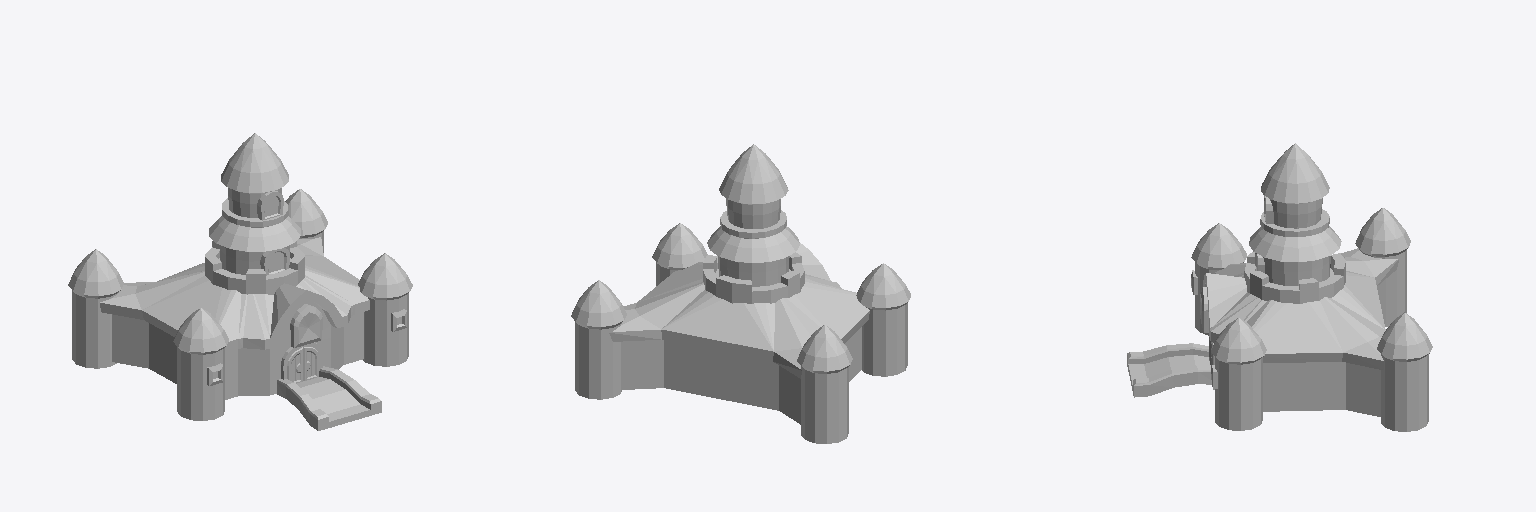
Rendered from castelo.obj.
The picture shows the model from 3 angles: view 1: azimuth 30°, elevation 25°; view 2: azimuth 150°, elevation 25°; view 3: azimuth 270°, elevation 25°; orthographic projection.
Visible parts, largest first — view 1: polygon11.021_polygon11.019_polygon11.021_polygon11.001, polygon11.021_polygon11.001, polygon11.021_polygon11.001_polygon11.021_polygon11.001, polygon11.021_polygon11.018_polygon11.021_polygon11.001, polygon11.021_polygon11.007_polygon11.021_polygon11.001, polygon11.021_polygon11.006_polygon11.021_polygon11.001, polygon11.021_polygon11.010_polygon11.021_polygon11.001, polygon11.021_polygon11.011_polygon11.021_polygon11.001, polygon11.021_polygon11.003_polygon11.021_polygon11.001, polygon11.021_polygon11.020_polygon11.021_polygon11.001, polygon11.021_polygon11.000_polygon11.021_polygon11.001, polygon11.021_polygon11.012_polygon11.021_polygon11.001 (+1 smaller); view 2: polygon11.021_polygon11.019_polygon11.021_polygon11.001, polygon11.021_polygon11.001_polygon11.021_polygon11.001, polygon11.021_polygon11.003_polygon11.021_polygon11.001, polygon11.021_polygon11.001, polygon11.021_polygon11.006_polygon11.021_polygon11.001, polygon11.021_polygon11.010_polygon11.021_polygon11.001, polygon11.021_polygon11.011_polygon11.021_polygon11.001, polygon11.021_polygon11.018_polygon11.021_polygon11.001, polygon11.021_polygon11.012_polygon11.021_polygon11.001; view 3: polygon11.021_polygon11.019_polygon11.021_polygon11.001, polygon11.021_polygon11.003_polygon11.021_polygon11.001, polygon11.021_polygon11.018_polygon11.021_polygon11.001, polygon11.021_polygon11.006_polygon11.021_polygon11.001, polygon11.021_polygon11.010_polygon11.021_polygon11.001, polygon11.021_polygon11.007_polygon11.021_polygon11.001, polygon11.021_polygon11.001_polygon11.021_polygon11.001, polygon11.021_polygon11.011_polygon11.021_polygon11.001, polygon11.021_polygon11.001, polygon11.021_polygon11.012_polygon11.021_polygon11.001.
Boxes of the visible parts, box(x1,y1,x2,y2) form: polygon11.021_polygon11.019_polygon11.021_polygon11.001: box(100, 237, 369, 399); polygon11.021_polygon11.001: box(173, 308, 228, 420); polygon11.021_polygon11.001_polygon11.021_polygon11.001: box(68, 249, 123, 368); polygon11.021_polygon11.018_polygon11.021_polygon11.001: box(358, 253, 412, 366); polygon11.021_polygon11.007_polygon11.021_polygon11.001: box(277, 366, 381, 430); polygon11.021_polygon11.006_polygon11.021_polygon11.001: box(221, 133, 288, 217); polygon11.021_polygon11.010_polygon11.021_polygon11.001: box(209, 216, 300, 274); polygon11.021_polygon11.011_polygon11.021_polygon11.001: box(205, 241, 304, 294); polygon11.021_polygon11.003_polygon11.021_polygon11.001: box(285, 189, 327, 252); polygon11.021_polygon11.020_polygon11.021_polygon11.001: box(257, 191, 289, 275); polygon11.021_polygon11.000_polygon11.021_polygon11.001: box(290, 304, 322, 347); polygon11.021_polygon11.012_polygon11.021_polygon11.001: box(222, 198, 288, 227); polygon11.021_polygon11.019_polygon11.021_polygon11.001: box(609, 243, 869, 424); polygon11.021_polygon11.001_polygon11.021_polygon11.001: box(797, 325, 852, 443); polygon11.021_polygon11.003_polygon11.021_polygon11.001: box(571, 280, 626, 399); polygon11.021_polygon11.001: box(856, 263, 910, 376); polygon11.021_polygon11.006_polygon11.021_polygon11.001: box(719, 144, 788, 228); polygon11.021_polygon11.010_polygon11.021_polygon11.001: box(707, 226, 799, 286); polygon11.021_polygon11.011_polygon11.021_polygon11.001: box(703, 252, 804, 303); polygon11.021_polygon11.018_polygon11.021_polygon11.001: box(652, 223, 707, 285); polygon11.021_polygon11.012_polygon11.021_polygon11.001: box(720, 210, 786, 238); polygon11.021_polygon11.019_polygon11.021_polygon11.001: box(1203, 248, 1398, 416); polygon11.021_polygon11.003_polygon11.021_polygon11.001: box(1377, 312, 1432, 431); polygon11.021_polygon11.018_polygon11.021_polygon11.001: box(1211, 318, 1266, 430); polygon11.021_polygon11.006_polygon11.021_polygon11.001: box(1261, 143, 1329, 228); polygon11.021_polygon11.010_polygon11.021_polygon11.001: box(1249, 226, 1341, 285); polygon11.021_polygon11.007_polygon11.021_polygon11.001: box(1127, 343, 1211, 397); polygon11.021_polygon11.001_polygon11.021_polygon11.001: box(1355, 208, 1410, 326); polygon11.021_polygon11.011_polygon11.021_polygon11.001: box(1244, 252, 1345, 303); polygon11.021_polygon11.001: box(1191, 223, 1246, 335); polygon11.021_polygon11.012_polygon11.021_polygon11.001: box(1260, 209, 1329, 236).
Size of the model in its own units: 1.29 by 1.08 by 1.28.